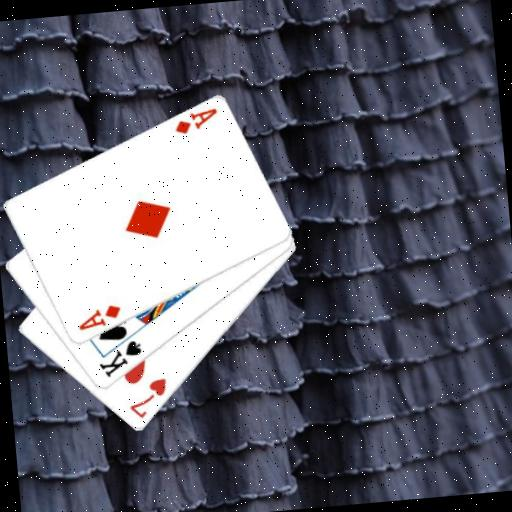7H: (124, 375, 171, 422)
AD: (74, 302, 125, 334), (171, 106, 221, 138)
KS: (95, 337, 146, 381)
